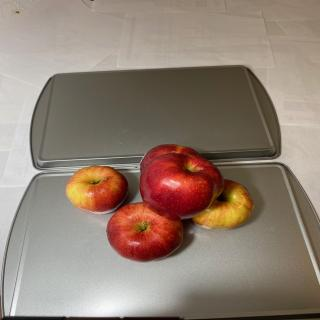Apple: (139, 152, 224, 220), (106, 202, 184, 263), (192, 179, 254, 230), (65, 165, 128, 214), (140, 144, 202, 174)
